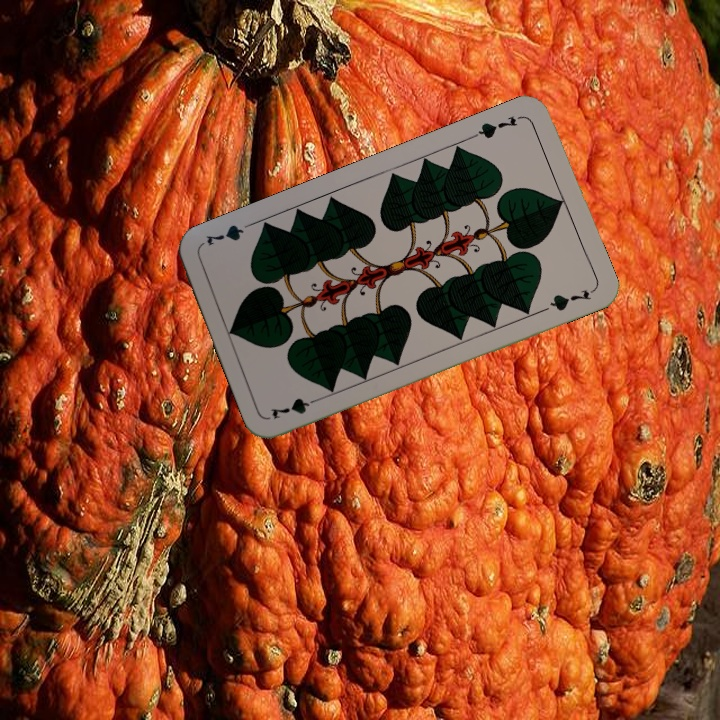G7: (266, 392, 325, 422), (469, 111, 525, 141)
